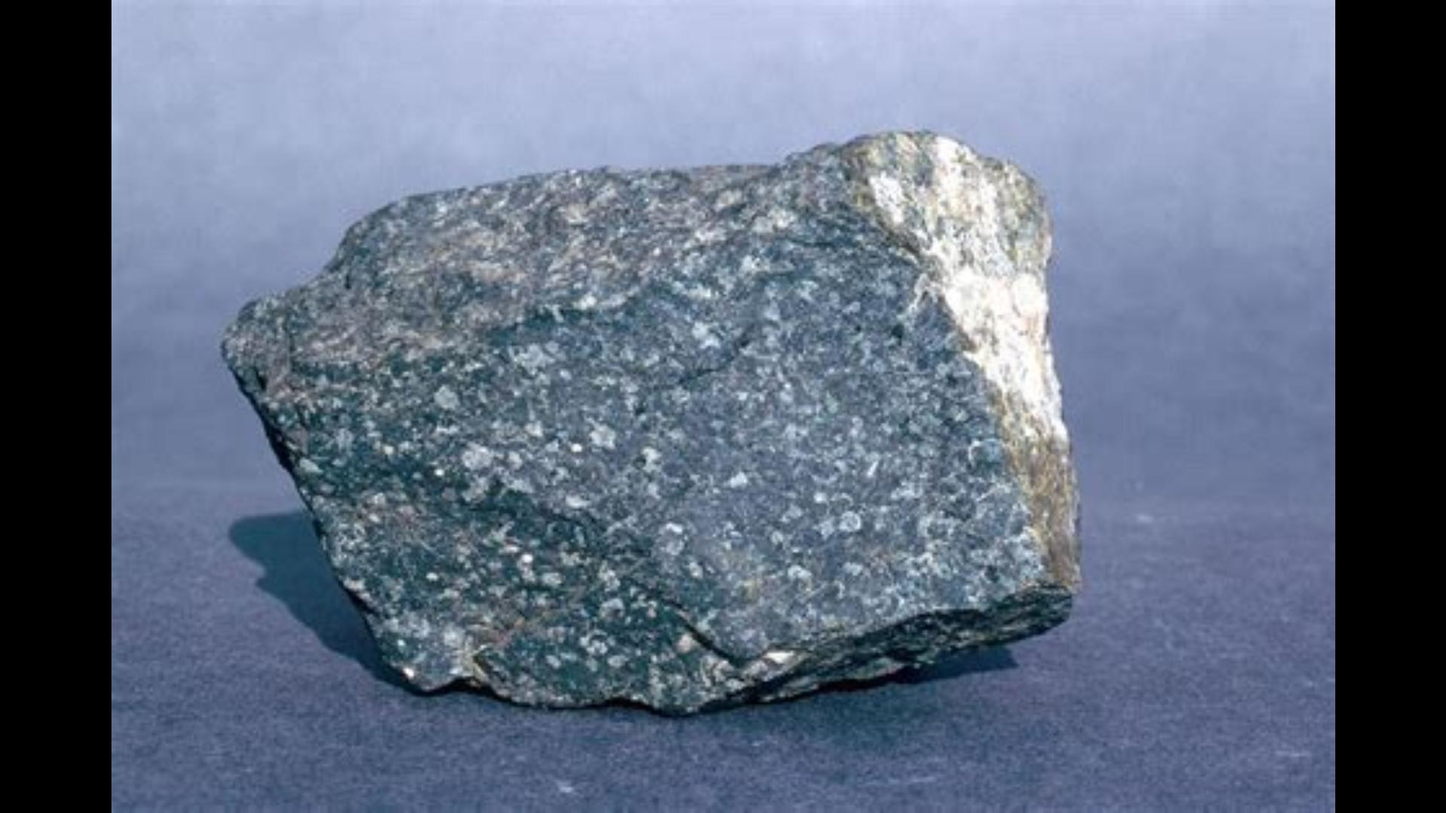rock: (222, 134, 1071, 710)
